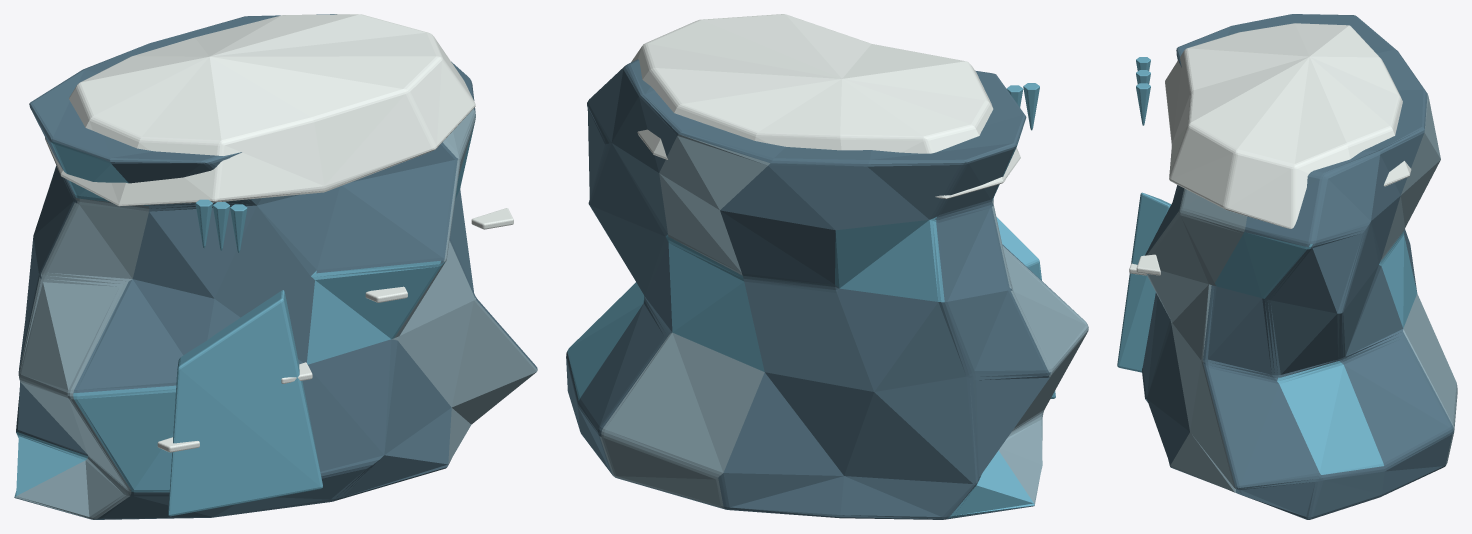
The model's file is CliffShelf-v3.fbx.
3 renders of one model, left to right at view 1: azimuth 30°, elevation 25°; view 2: azimuth 150°, elevation 25°; view 3: azimuth 270°, elevation 25°, orthographic. The views are drawn at different scales.
Visible parts, largest first — view 1: GFC2_CliffShelf_Rock, GFC2_CliffShelf_SnowCap, GFC2_CliffShelf_IceFracture, GFC2_CliffShelf; view 2: GFC2_CliffShelf_Rock, GFC2_CliffShelf_SnowCap, GFC2_CliffShelf_IceFracture, GFC2_CliffShelf; view 3: GFC2_CliffShelf_Rock, GFC2_CliffShelf_SnowCap, GFC2_CliffShelf_IceFracture, GFC2_CliffShelf.
Part boxes in pixels (box(x1,y1,x2,y2)): GFC2_CliffShelf_Rock: box(14, 14, 537, 519); GFC2_CliffShelf_SnowCap: box(45, 14, 475, 206); GFC2_CliffShelf_IceFracture: box(168, 290, 322, 516); GFC2_CliffShelf: box(157, 199, 513, 452); GFC2_CliffShelf_Rock: box(566, 59, 1088, 519); GFC2_CliffShelf_SnowCap: box(631, 14, 1020, 198); GFC2_CliffShelf_IceFracture: box(996, 217, 1055, 398); GFC2_CliffShelf: box(1006, 83, 1039, 130); GFC2_CliffShelf_Rock: box(1142, 14, 1457, 519); GFC2_CliffShelf_SnowCap: box(1165, 23, 1411, 228); GFC2_CliffShelf_IceFracture: box(1117, 192, 1171, 372); GFC2_CliffShelf: box(1129, 57, 1160, 275).
Bounding box in the file's own units: 6.24 × 4.78 × 4.28.
